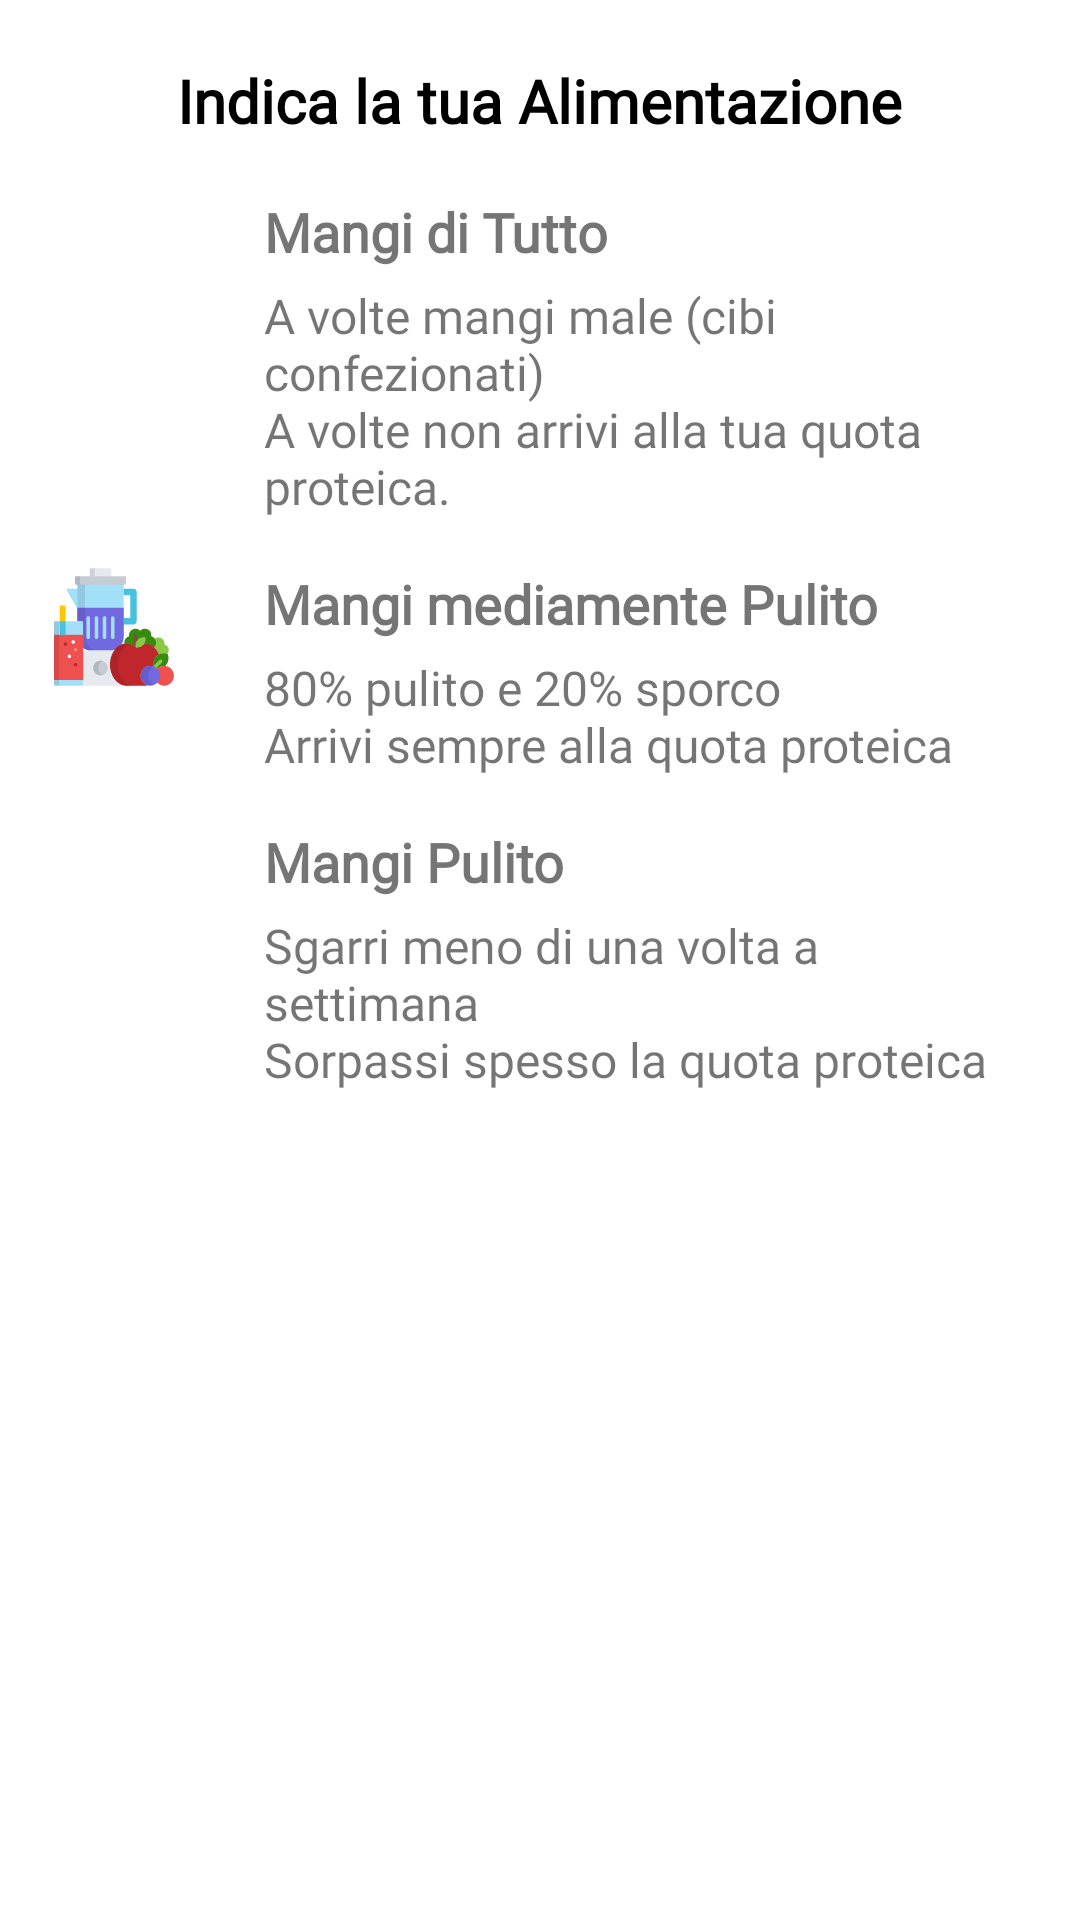

Screen size 1080x1920. Icon name, then its box in pixels as (x1, y1, x2, y2):
healthy food: (54, 568, 174, 686)
